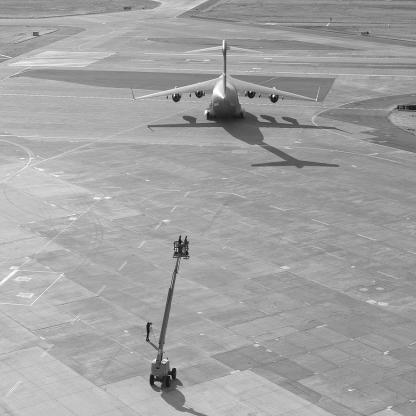C17: (132, 40, 321, 121)
